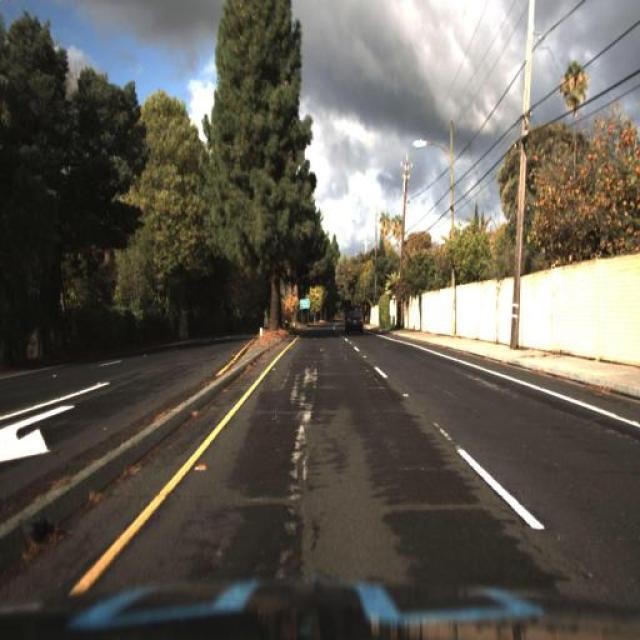car: (345, 310, 364, 334)
